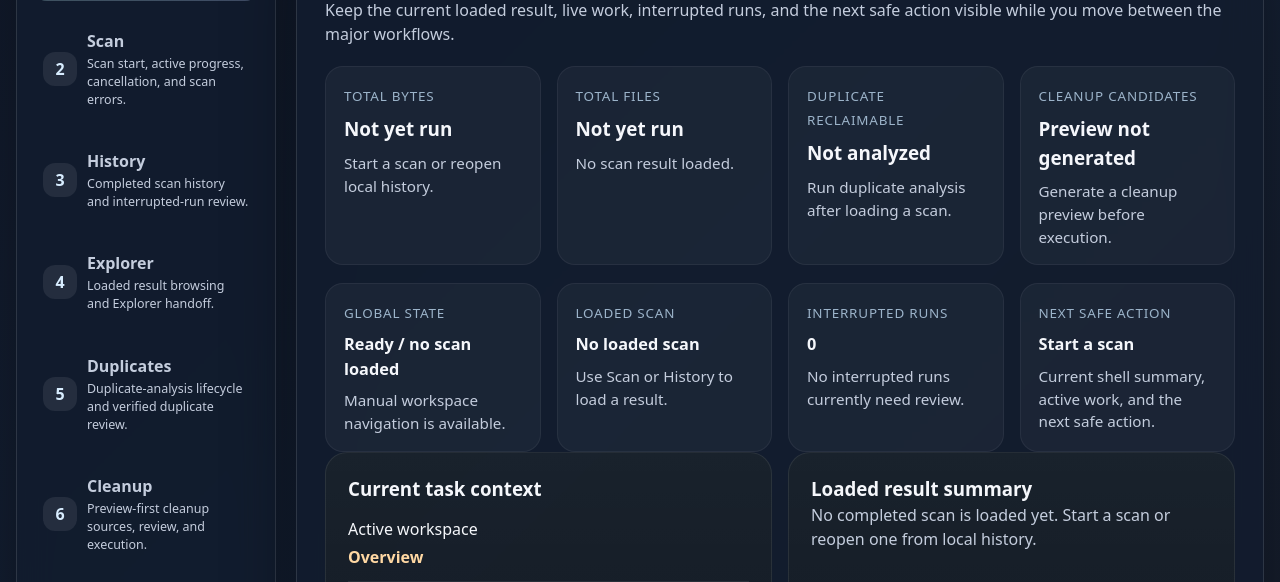
Test: Space Sift cleanup workflow › executes recycle-bin-first cleanup by default and recommends a fresh scan
(page scrolled)
Click the tab "Cleanup" at (146, 514), box [31,462,261,566]
(page scrolled)
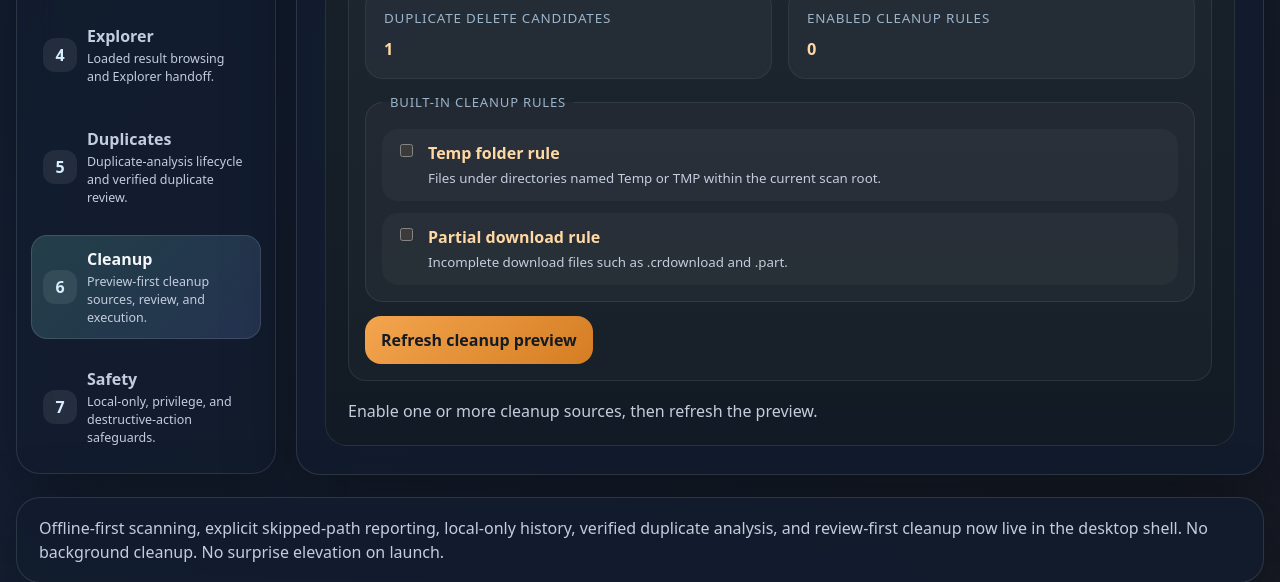
Now the button "Refresh cleanup preview" is shown
Click the button "Refresh cleanup preview" at (479, 340), box [365,316,593,364]
(page scrolled)
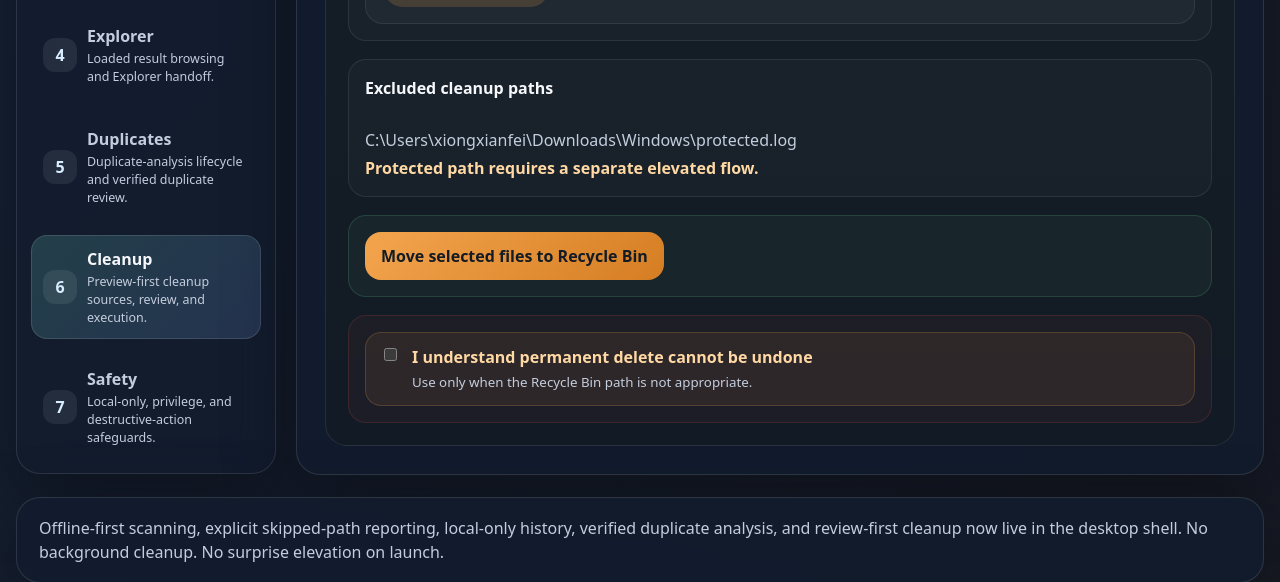
Now the button "Move selected files to Recycle Bin" is shown
Click the button "Move selected files to Recycle Bin" at (514, 256), box [365,232,664,280]
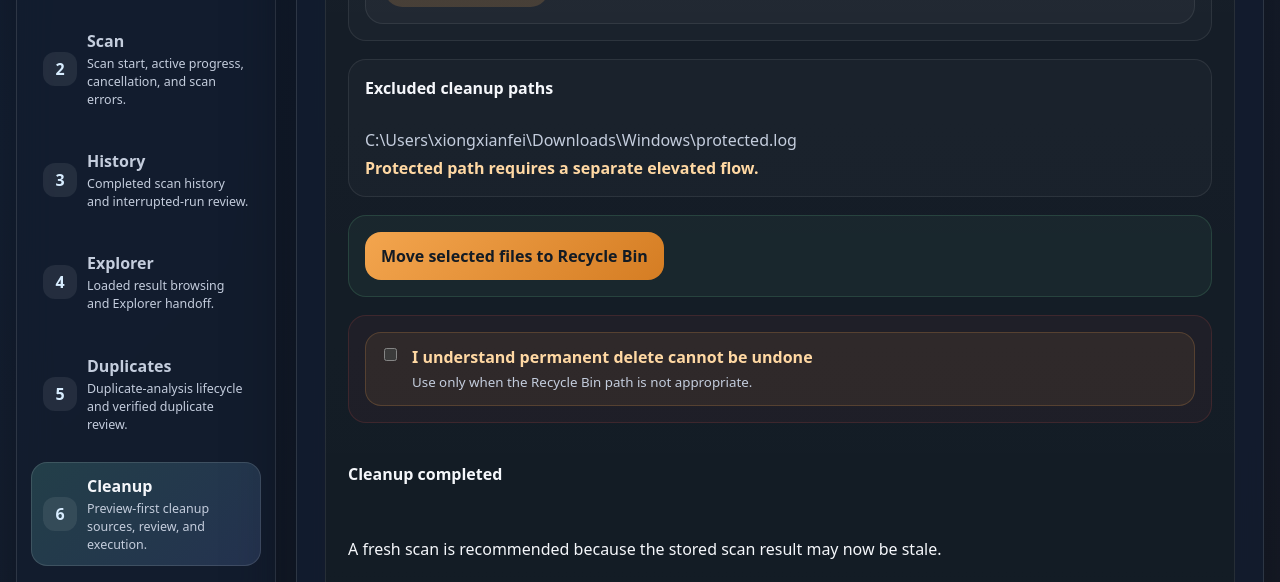
Now the heading "Cleanup completed" is shown, box [348,463,502,485]
Now the text "fresh scan is recommended" is shown, box [348,538,942,560]
